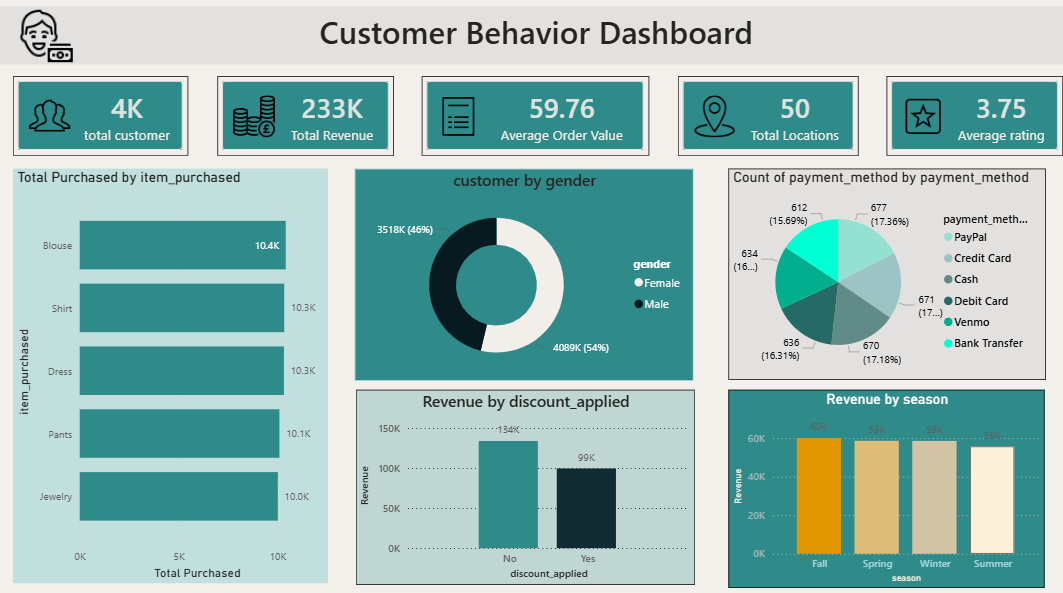

Layout of this report page (visuals, bound fields, positions):
{"tool":"powerbi","page":{"name":"Page 1","canvas":[1280,720],"ordinal":0},"visuals":[{"type":"textbox","box":[0,12.7,1279.5,69.6],"z":0},{"type":"cardVisual","fields":{"Data":["public customer.Total Revenue"]},"box":[259.8,96.5,210.4,94.9],"z":1000},{"type":"cardVisual","fields":{"Data":["public customer.Average Order Value"]},"box":[503.7,96.5,270.5,94.9],"z":2000},{"type":"cardVisual","fields":{"Data":["public customer.Average rating"]},"box":[1056.5,96.5,210.4,94.9],"z":3000},{"type":"donutChart","fields":{"Category":["public customer.gender"],"Y":["public customer.customer"]},"box":[423.9,207.2,403.3,253.1],"z":4000},{"type":"columnChart","fields":{"Category":["public customer.discount_applied"],"Y":["public customer.Total Revenue"]},"box":[425.5,469.7,403.3,232.5],"z":5000},{"type":"clusteredBarChart","fields":{"Category":["public customer.item_purchased"],"Y":["public customer.Total Purchased"]},"box":[17.4,207.2,374.8,493.5],"z":6000},{"type":"pieChart","fields":{"Category":["public customer.payment_method"],"Y":["CountNonNull(public customer.payment_method)"]},"box":[868.3,207.2,378,251.5],"z":7000},{"type":"columnChart","fields":{"Category":["public customer.season"],"Y":["public customer.Total Revenue"]},"box":[868.3,469.7,376.4,235.7],"z":8000},{"type":"cardVisual","fields":{"Data":["public customer.Total Locations"]},"box":[807.8,96.5,215.1,94.9],"z":9000},{"type":"cardVisual","fields":{"Data":["public customer.total customer"]},"box":[17.4,96.5,208.8,94.9],"z":10000},{"type":"image","box":[0,14.2,110.7,64.8],"z":11000}]}

Visuals, with their boxes in screenshot pixels (x1, y1, x2, y2), scaled from the page's 1280x720 canvas onto the 1063x593 screenshot:
textbox: [x1=0, y1=10, x2=1062, y2=68]
cardVisual - public customer.Total Revenue: [x1=216, y1=79, x2=390, y2=158]
cardVisual - public customer.Average Order Value: [x1=418, y1=79, x2=643, y2=158]
cardVisual - public customer.Average rating: [x1=877, y1=79, x2=1052, y2=158]
donutChart - public customer.gender x public customer.customer: [x1=352, y1=171, x2=687, y2=379]
columnChart - public customer.discount_applied x public customer.Total Revenue: [x1=353, y1=387, x2=688, y2=578]
clusteredBarChart - public customer.item_purchased x public customer.Total Purchased: [x1=14, y1=171, x2=326, y2=577]
pieChart - public customer.payment_method x CountNonNull(public customer.payment_method): [x1=721, y1=171, x2=1035, y2=378]
columnChart - public customer.season x public customer.Total Revenue: [x1=721, y1=387, x2=1034, y2=581]
cardVisual - public customer.Total Locations: [x1=671, y1=79, x2=849, y2=158]
cardVisual - public customer.total customer: [x1=14, y1=79, x2=188, y2=158]
image: [x1=0, y1=12, x2=92, y2=65]
